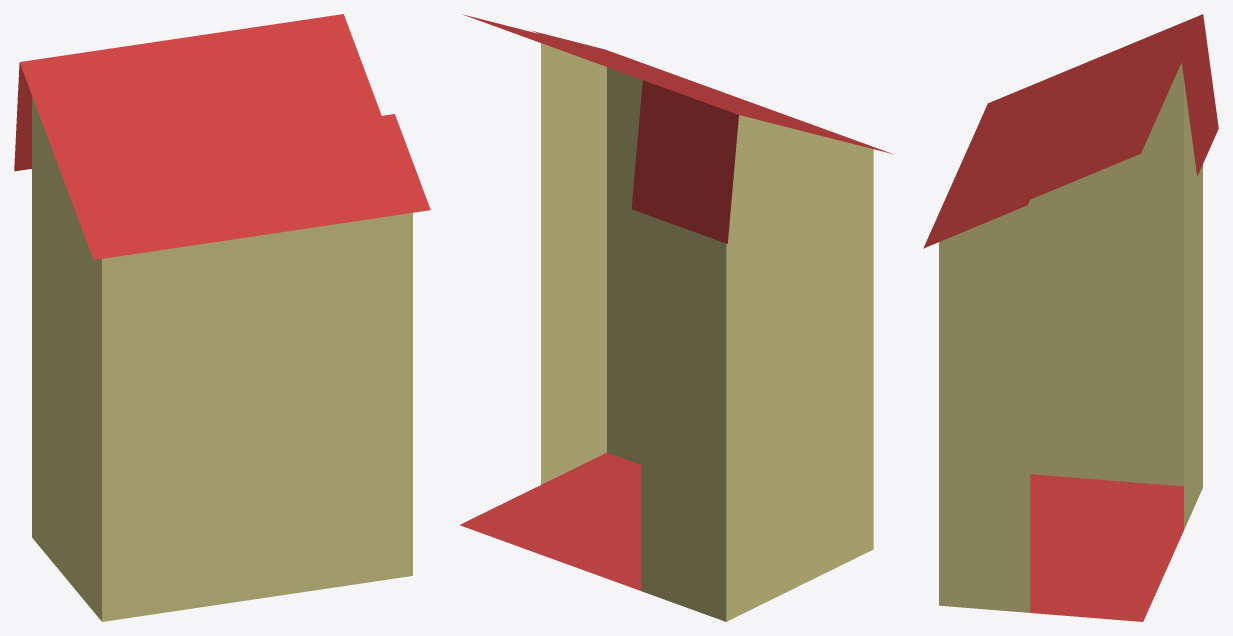
3 views of the same model, side by side, from view 1: azimuth 30°, elevation 25°; view 2: azimuth 150°, elevation 25°; view 3: azimuth 270°, elevation 25° (orthographic). The views are drawn at different scales.
Size of the model in its own units: 6.82 by 5.43 by 9.48.
